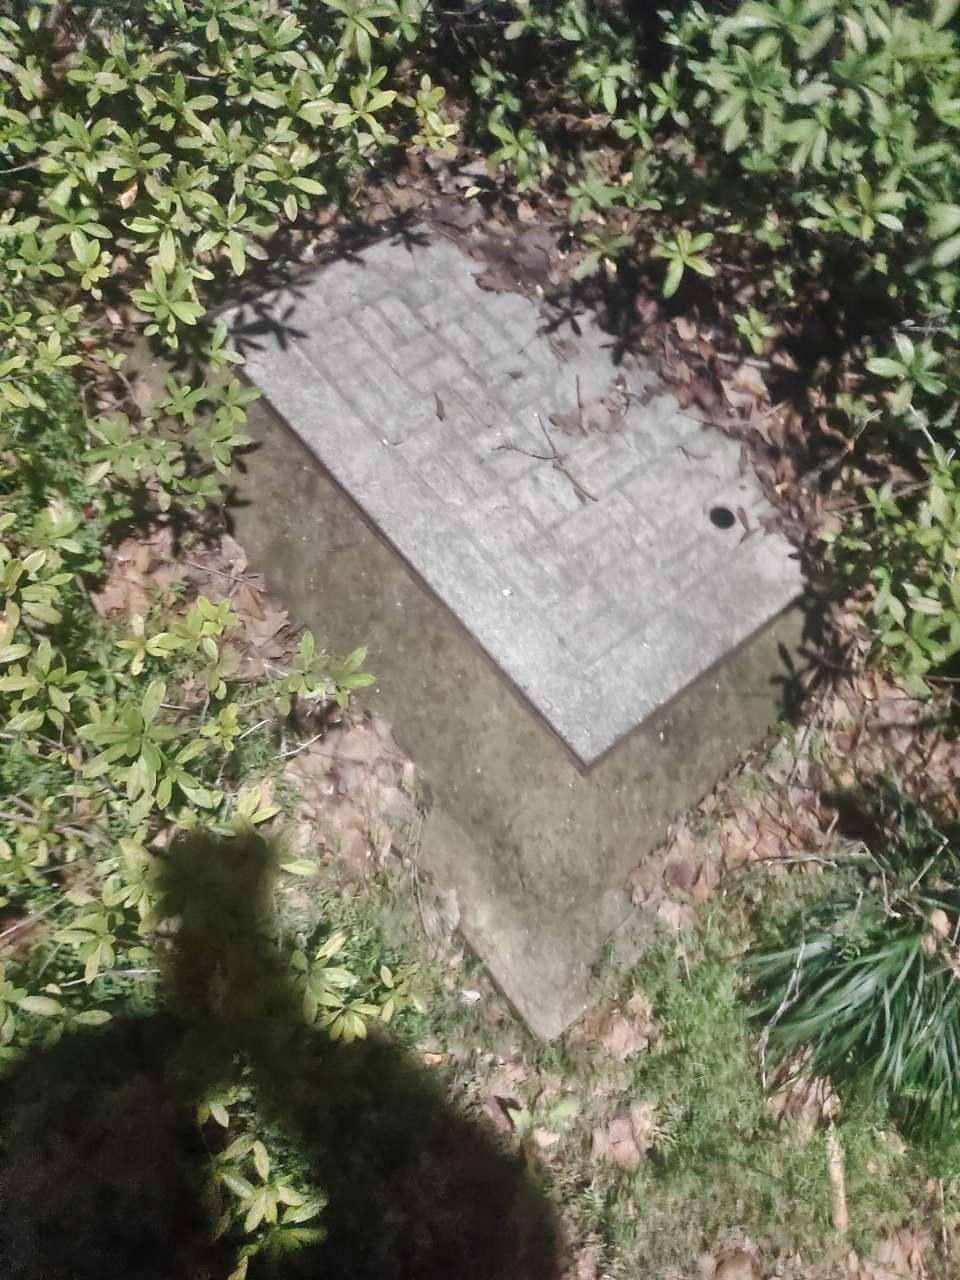wellcover: (136, 173, 883, 1037)
